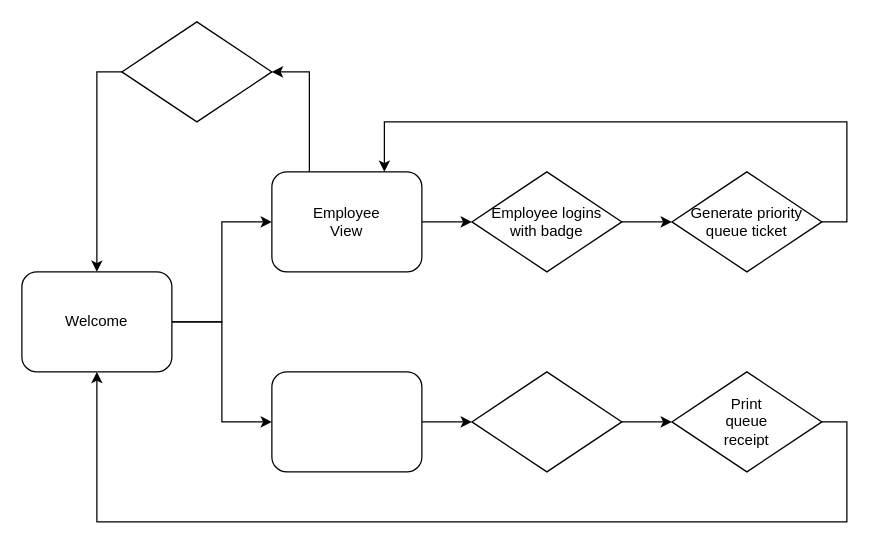
Image size: 879x554. Some labels were removed from this diagram. Each missing label, with the centre of its shape:
"Employee logs out" goes at (x=196, y=71).
"Store Details View" goes at (x=346, y=421).
"User joins queue" goes at (x=546, y=421).
